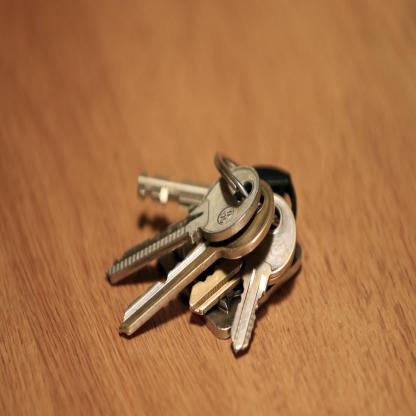keys: (99, 142, 302, 361)
